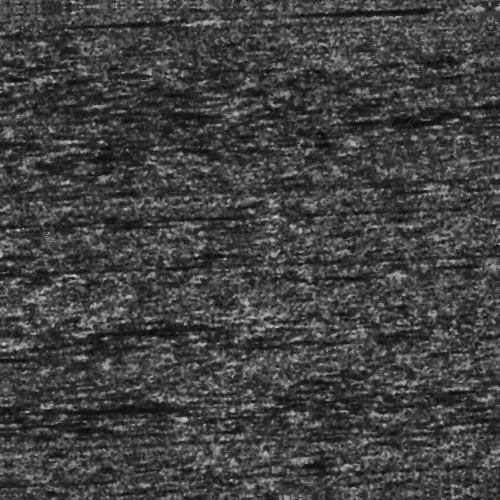object: (436, 10, 499, 19), (19, 127, 92, 134), (192, 400, 265, 407), (165, 14, 228, 21), (0, 98, 37, 107), (224, 321, 265, 326)
shadow: (324, 10, 467, 19), (62, 14, 196, 21), (109, 400, 229, 407), (99, 321, 244, 326), (0, 127, 56, 134)
